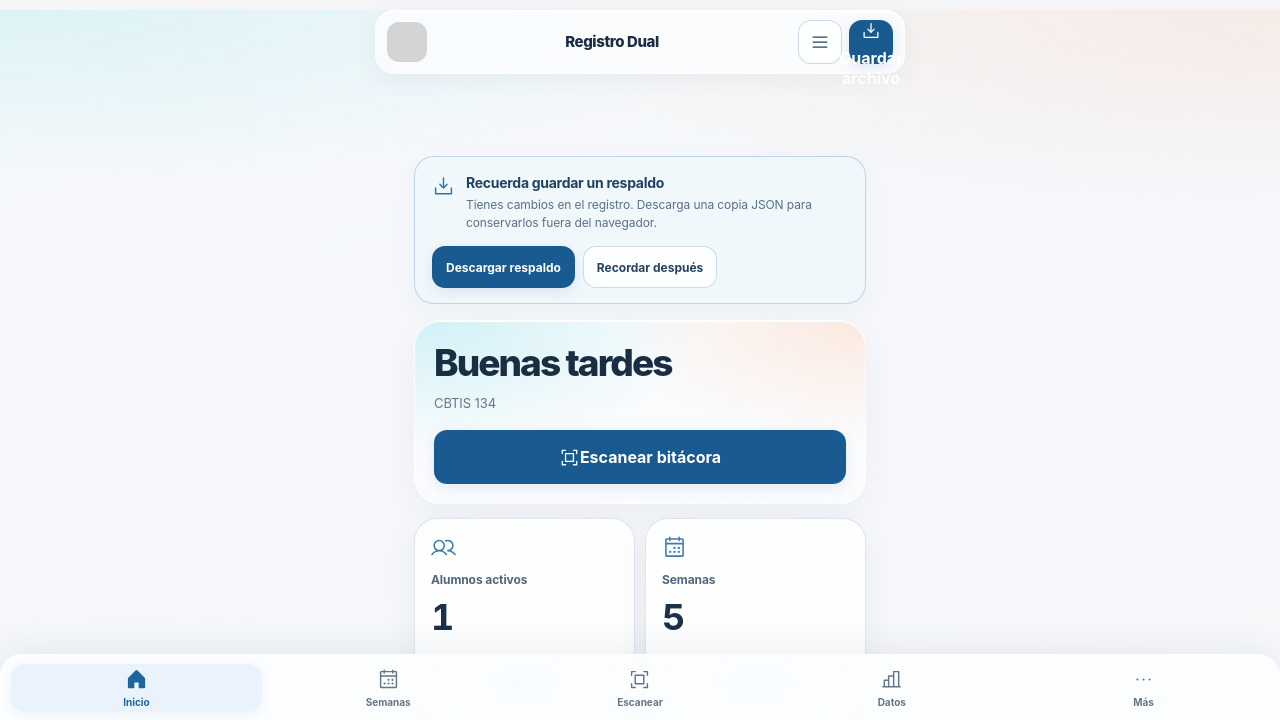
Test: Inicio, accesos rápidos y respaldos · Registro Dual › solo muestra recordatorio cuando hubo tiempo suficiente sin un respaldo
Check: the message named "Recordatorio de respaldo" is shown, box [414,156,866,304]
Step 1. Click the button "Recordar después" → click(650, 267), box [583,246,717,288]
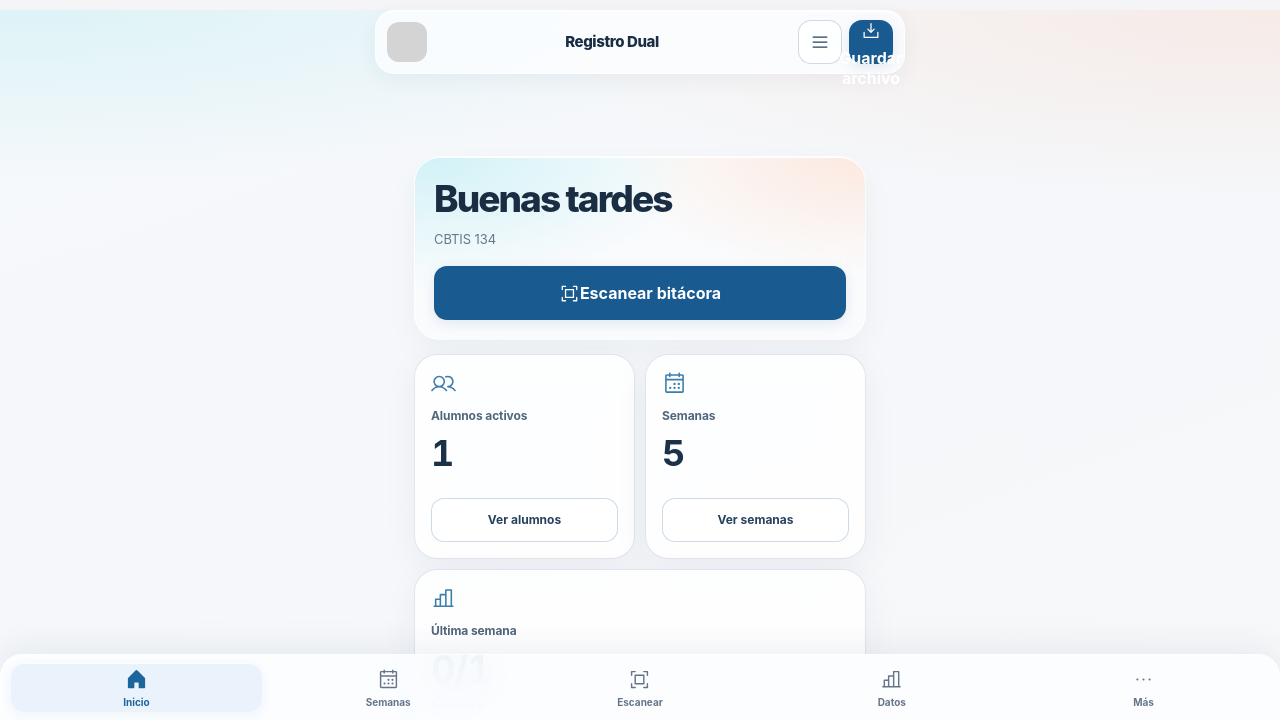
Check: the message with class "delivery-backup-reminder" is gone
